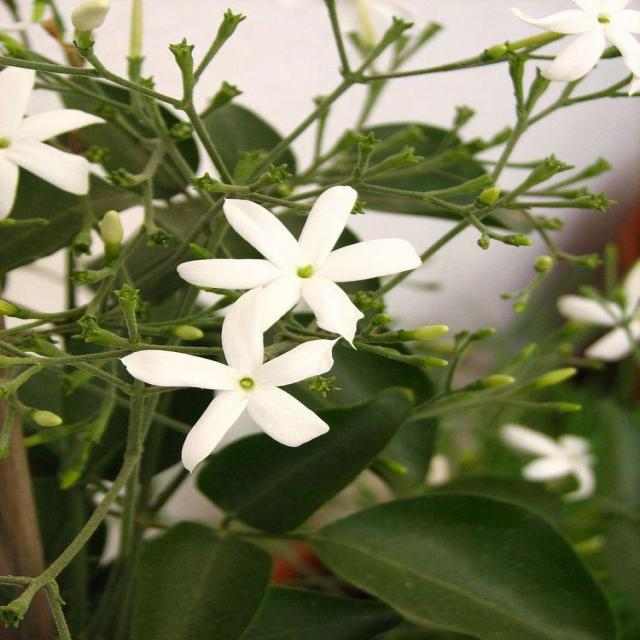organic waste: (168, 179, 428, 339), (129, 314, 359, 472), (2, 65, 102, 224)
